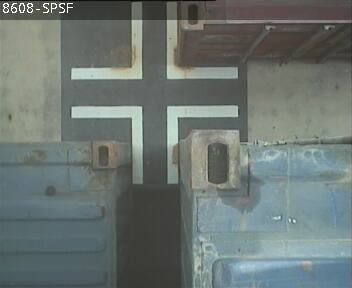groundmarker_1: (70, 1, 239, 79), (69, 105, 238, 182)
